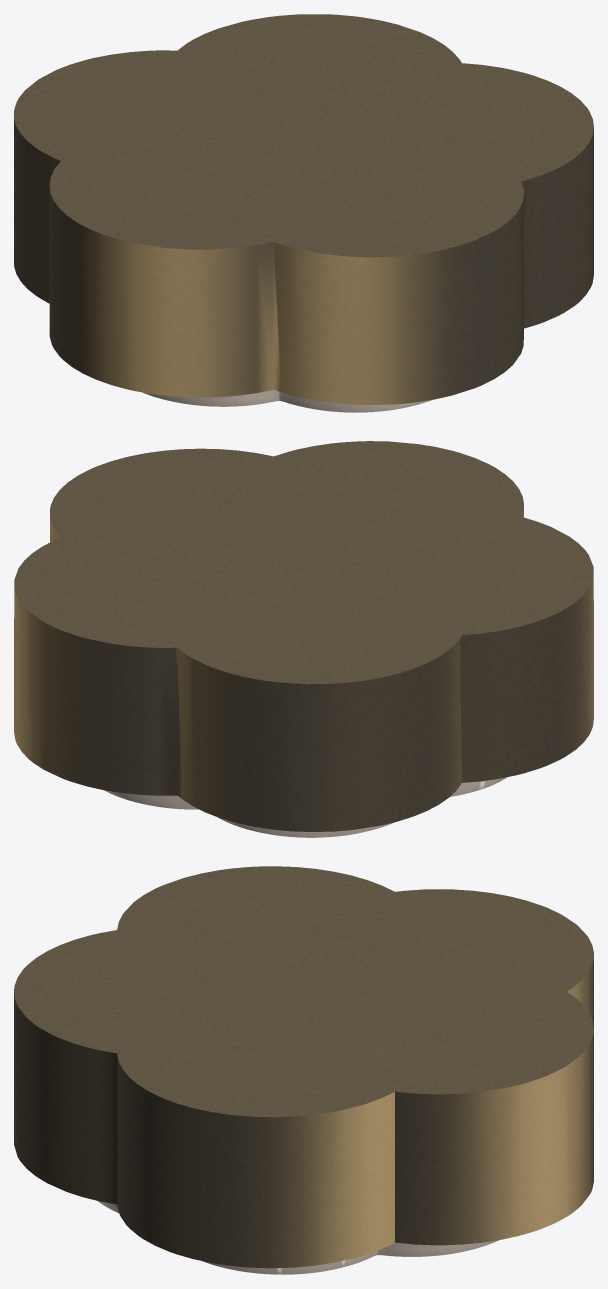
The model's file is raw_model.obj.
3 renders of one model, top to bottom at view 1: azimuth 30°, elevation 25°; view 2: azimuth 150°, elevation 25°; view 3: azimuth 270°, elevation 25°, orthographic. The views are drawn at different scales.
Parts seen in each view (by area): view 1: solid_002, glass_001; view 2: solid_002, glass_001; view 3: solid_002, glass_001.
Part boxes in pixels (x1,y1,x2,y2): solid_002: [14, 14, 593, 404]; glass_001: [143, 390, 431, 412]; solid_002: [14, 441, 593, 831]; glass_001: [104, 777, 507, 837]; solid_002: [14, 866, 593, 1268]; glass_001: [98, 1201, 498, 1274].
Bounding box in the file's own units: 1.58 × 0.6066 × 1.55.
1 material, 1 textured.
